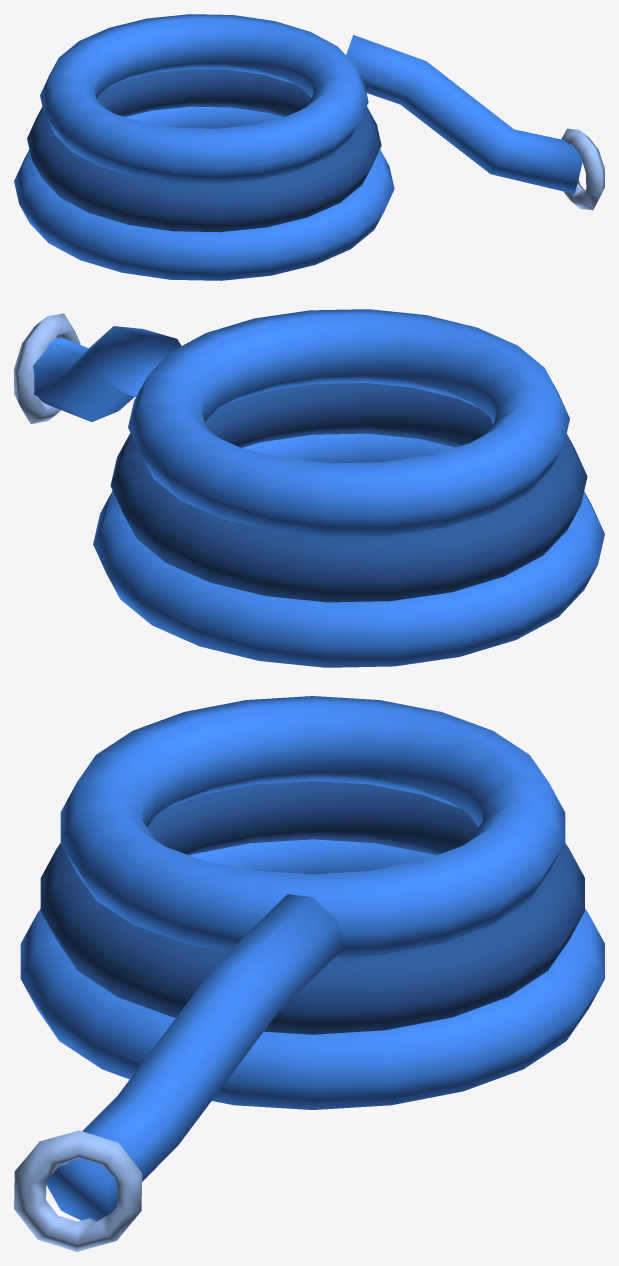
Rendered from Rope_Blue.glb.
The picture shows the model from 3 angles, top to bottom: view 1: azimuth 30°, elevation 25°; view 2: azimuth 150°, elevation 25°; view 3: azimuth 270°, elevation 25°; orthographic projection. The views are drawn at different scales.
Parts seen in each view (by area): view 1: Rope_Blue_Coil2, Rope_Blue_Coil1, Rope_Blue_Coil0, Rope_Blue_End, Rope_Blue_Tie; view 2: Rope_Blue_Coil2, Rope_Blue_Coil1, Rope_Blue_Coil0, Rope_Blue_End, Rope_Blue_Tie; view 3: Rope_Blue_Coil2, Rope_Blue_Coil1, Rope_Blue_Coil0, Rope_Blue_End, Rope_Blue_Tie.
Part boxes in pixels (<box>): Rope_Blue_Coil2: <box>40,14,368,183</box>; Rope_Blue_Coil1: <box>27,69,381,232</box>; Rope_Blue_Coil0: <box>14,106,394,280</box>; Rope_Blue_End: <box>346,35,582,193</box>; Rope_Blue_Tie: <box>561,128,604,210</box>; Rope_Blue_Coil2: <box>128,309,569,536</box>; Rope_Blue_Coil1: <box>110,383,587,602</box>; Rope_Blue_Coil0: <box>93,433,604,667</box>; Rope_Blue_End: <box>33,326,181,421</box>; Rope_Blue_Tie: <box>14,313,80,423</box>; Rope_Blue_Coil2: <box>60,696,565,957</box>; Rope_Blue_Coil1: <box>40,781,584,1034</box>; Rope_Blue_Coil0: <box>20,839,604,1109</box>; Rope_Blue_End: <box>46,894,344,1221</box>; Rope_Blue_Tie: <box>14,1130,142,1251</box>.
Size of the model in its own units: 0.2549 by 0.0792 by 0.1762.
